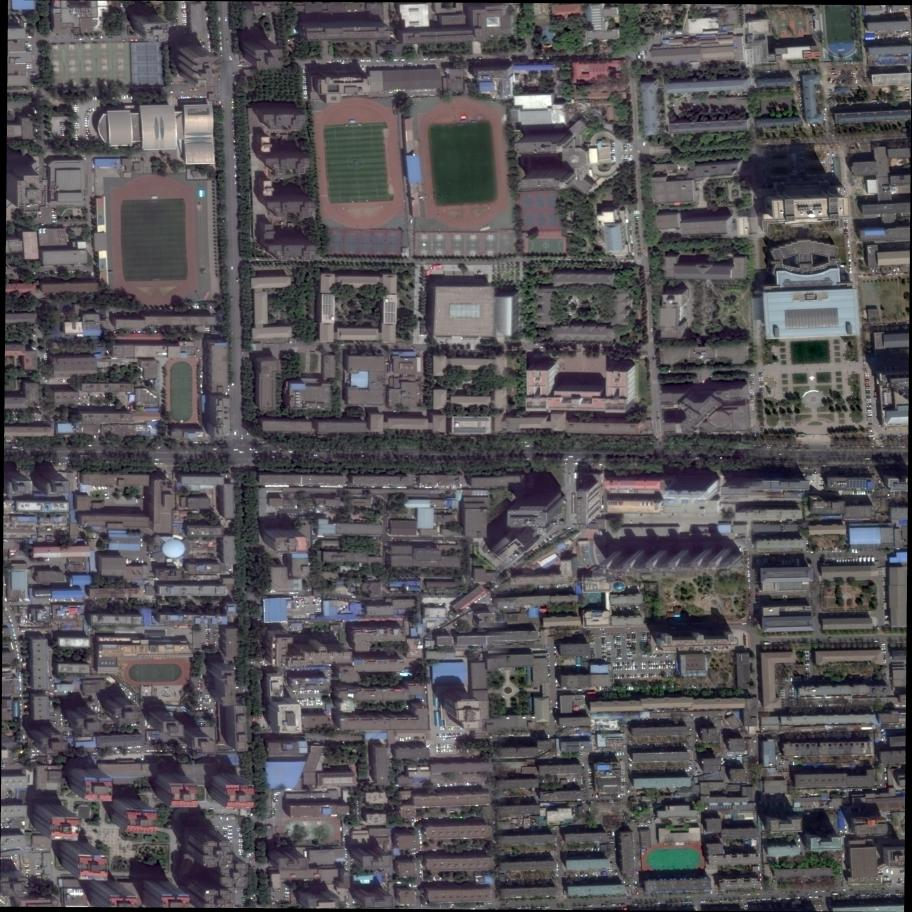small-vehicle: (399, 672, 409, 677), (576, 657, 581, 666), (103, 491, 110, 497), (543, 538, 549, 544), (547, 536, 553, 542), (554, 529, 560, 535), (554, 872, 560, 878), (876, 422, 882, 428), (627, 756, 633, 762), (665, 653, 671, 659), (300, 597, 305, 604), (567, 298, 574, 303), (311, 453, 319, 457), (871, 557, 875, 565), (867, 557, 871, 565), (863, 557, 867, 565), (533, 546, 538, 552), (538, 543, 544, 548), (622, 879, 627, 885), (426, 743, 431, 749), (120, 94, 125, 100), (228, 55, 233, 61), (154, 461, 160, 466), (70, 597, 75, 603), (720, 760, 726, 765), (412, 850, 418, 855), (829, 78, 834, 84), (628, 225, 633, 231), (590, 799, 596, 804), (627, 762, 633, 767), (589, 633, 595, 638), (238, 450, 245, 454), (232, 448, 239, 452), (886, 818, 893, 822), (803, 650, 810, 654), (820, 463, 827, 467), (850, 72, 857, 76), (858, 558, 862, 565), (561, 462, 568, 466), (580, 800, 587, 804), (541, 541, 546, 546), (9, 605, 14, 610), (463, 781, 468, 786), (573, 872, 578, 877), (614, 871, 619, 876), (635, 891, 640, 896), (19, 658, 24, 663), (7, 614, 12, 619), (31, 346, 36, 351), (574, 534, 579, 539), (838, 79, 843, 84), (547, 672, 552, 677), (316, 607, 322, 611), (314, 602, 320, 606), (234, 172, 238, 178), (523, 457, 529, 461), (233, 138, 237, 144), (227, 828, 233, 832), (238, 843, 244, 847), (449, 903, 455, 907), (466, 781, 470, 787), (587, 903, 593, 907), (411, 847, 417, 851), (140, 38, 146, 42), (121, 38, 127, 42), (218, 22, 222, 28), (135, 498, 139, 504), (104, 496, 110, 500), (86, 110, 92, 114), (31, 139, 37, 143), (608, 799, 614, 803), (808, 792, 814, 796), (877, 870, 883, 874), (792, 444, 798, 448), (831, 151, 835, 157), (819, 160, 825, 164), (610, 148, 616, 152), (637, 54, 641, 60), (622, 154, 628, 158), (630, 790, 636, 794), (580, 787, 586, 791), (287, 450, 294, 453), (523, 444, 530, 447), (618, 799, 625, 802), (610, 903, 617, 906), (871, 788, 878, 791), (894, 893, 901, 896), (864, 457, 871, 460), (766, 446, 773, 449), (897, 272, 904, 275), (567, 455, 574, 458), (619, 777, 626, 780), (234, 180, 238, 185), (230, 265, 234, 270), (246, 431, 250, 436), (240, 435, 244, 440), (233, 154, 237, 159), (231, 104, 235, 109), (232, 127, 236, 132), (225, 817, 229, 822), (270, 888, 274, 893), (419, 860, 423, 865), (419, 869, 423, 874), (410, 817, 414, 822), (607, 831, 611, 836), (590, 847, 594, 852), (580, 872, 584, 877), (635, 870, 639, 875), (454, 782, 458, 787), (547, 734, 551, 739), (419, 840, 423, 845), (466, 748, 470, 753), (595, 793, 599, 798), (219, 46, 223, 51), (218, 30, 222, 35), (30, 84, 34, 89), (130, 95, 134, 100), (134, 38, 139, 42), (224, 17, 228, 22), (24, 614, 28, 619), (200, 390, 204, 395), (199, 383, 203, 388), (74, 597, 78, 602), (213, 632, 217, 637), (12, 632, 16, 637), (17, 626, 21, 631), (11, 623, 15, 628), (218, 101, 222, 106), (591, 794, 595, 799), (828, 805, 833, 809), (828, 94, 833, 98), (838, 70, 842, 75), (577, 532, 582, 536), (749, 403, 754, 407), (748, 399, 753, 403), (761, 428, 765, 433), (858, 274, 863, 278), (847, 243, 851, 248), (629, 234, 633, 239), (630, 239, 634, 244), (631, 251, 635, 256), (575, 298, 579, 303), (567, 301, 572, 305), (642, 141, 646, 146), (581, 762, 585, 767), (582, 776, 586, 781), (588, 787, 593, 791), (619, 790, 624, 794), (606, 686, 610, 691), (596, 686, 600, 691), (578, 688, 583, 692), (554, 661, 558, 666), (628, 740, 632, 745), (656, 654, 660, 659), (653, 654, 658, 658), (649, 654, 654, 658), (619, 606, 623, 611), (271, 450, 277, 453), (249, 448, 255, 451), (305, 612, 311, 615), (315, 610, 321, 613), (231, 98, 234, 104), (233, 132, 236, 138), (284, 891, 290, 894), (24, 863, 30, 866), (222, 831, 228, 834), (239, 851, 245, 854), (239, 853, 245, 856), (238, 846, 244, 849), (238, 840, 244, 843), (516, 896, 522, 899), (544, 906, 550, 909), (608, 841, 614, 844), (608, 853, 614, 856), (620, 903, 626, 906), (181, 2, 187, 5), (181, 6, 187, 9), (181, 9, 187, 12), (182, 23, 188, 26), (226, 38, 229, 44), (73, 106, 79, 109), (27, 36, 33, 39), (72, 104, 78, 107), (212, 447, 218, 450), (200, 375, 203, 381), (150, 559, 156, 562), (205, 628, 211, 631), (205, 630, 211, 633), (205, 635, 211, 638), (74, 110, 80, 113), (73, 138, 79, 141), (72, 132, 78, 135), (74, 124, 80, 127), (85, 130, 91, 133), (84, 122, 90, 125), (84, 117, 90, 120), (52, 220, 58, 223), (92, 168, 95, 174), (59, 126, 65, 129), (884, 877, 890, 880), (700, 900, 706, 903), (775, 897, 781, 900), (794, 896, 800, 899), (820, 890, 826, 893), (804, 657, 810, 660), (779, 691, 785, 694), (789, 687, 795, 690), (789, 694, 795, 697), (813, 890, 819, 893), (737, 754, 743, 757), (819, 480, 825, 483), (852, 558, 855, 564), (841, 558, 844, 564), (839, 558, 842, 564), (836, 558, 839, 564), (804, 670, 810, 673), (860, 894, 866, 897), (422, 849, 428, 852), (850, 74, 856, 77), (847, 558, 850, 564), (855, 558, 858, 564), (655, 902, 661, 905), (694, 456, 700, 459), (773, 457, 779, 460), (805, 68, 811, 71), (767, 444, 773, 447), (866, 405, 872, 408), (867, 411, 873, 414), (869, 445, 875, 448), (879, 445, 885, 448), (597, 463, 603, 466), (572, 462, 578, 465), (573, 458, 579, 461), (562, 458, 568, 461), (748, 391, 754, 394), (747, 379, 753, 382), (758, 372, 764, 375), (587, 776, 593, 779), (619, 793, 625, 796), (619, 796, 625, 799), (589, 782, 595, 785), (588, 767, 594, 770), (642, 652, 648, 655), (647, 640, 653, 643), (589, 642, 595, 645), (312, 598, 316, 602), (234, 149, 238, 153), (555, 701, 559, 705), (219, 816, 223, 820), (246, 853, 250, 857), (555, 705, 559, 709), (419, 874, 423, 878), (471, 782, 475, 786), (474, 782, 478, 786), (449, 783, 453, 787), (441, 734, 445, 738), (437, 783, 441, 787), (419, 845, 423, 849), (457, 733, 461, 737), (207, 40, 211, 44), (207, 34, 211, 38), (34, 110, 38, 114), (16, 656, 20, 660), (15, 644, 19, 648), (9, 619, 13, 623), (94, 107, 98, 111), (175, 96, 179, 100), (883, 768, 887, 772), (899, 879, 903, 883), (831, 165, 835, 169), (826, 151, 830, 155), (848, 258, 852, 262), (848, 261, 852, 265), (611, 140, 615, 144), (588, 807, 592, 811), (625, 686, 629, 690), (587, 751, 591, 755), (747, 578, 751, 582), (603, 658, 607, 662), (234, 164, 237, 169), (234, 430, 237, 435), (235, 159, 238, 164), (554, 653, 557, 658), (562, 528, 567, 531), (10, 855, 13, 860), (15, 854, 18, 859), (24, 865, 29, 868), (35, 864, 40, 867), (209, 807, 214, 810), (228, 825, 233, 828), (133, 696, 136, 701), (285, 887, 290, 890), (306, 697, 309, 702), (237, 827, 242, 830), (249, 852, 252, 857), (521, 907, 526, 910), (526, 906, 531, 909), (536, 906, 541, 909), (500, 904, 505, 907), (487, 902, 492, 905), (424, 817, 429, 820), (516, 907, 521, 910), (582, 904, 587, 907), (612, 831, 615, 836), (608, 869, 613, 872), (447, 744, 450, 749), (436, 744, 439, 749), (409, 736, 412, 741), (399, 737, 402, 742), (460, 732, 463, 737), (219, 40, 222, 45), (182, 13, 187, 16), (95, 37, 100, 40), (90, 37, 95, 40), (95, 96, 98, 101), (126, 94, 129, 99), (129, 39, 134, 42), (218, 16, 221, 21), (79, 37, 84, 40), (26, 64, 31, 67), (74, 108, 79, 111), (147, 554, 152, 557), (141, 559, 144, 564), (129, 559, 132, 564), (126, 559, 129, 564), (140, 537, 143, 542), (154, 458, 159, 461), (160, 462, 165, 465), (205, 327, 210, 330), (143, 588, 146, 593), (43, 356, 48, 359), (16, 648, 19, 653), (60, 132, 65, 135), (85, 134, 90, 137), (73, 136, 78, 139), (85, 124, 90, 127), (85, 119, 90, 122), (85, 115, 90, 118), (85, 112, 90, 115), (59, 128, 64, 131), (52, 214, 57, 217), (92, 163, 95, 168), (884, 783, 887, 788), (885, 893, 890, 896), (719, 900, 724, 903), (739, 899, 744, 902), (761, 898, 766, 901), (786, 897, 791, 900), (859, 490, 862, 495), (806, 540, 809, 545), (881, 651, 886, 654), (881, 643, 886, 646), (721, 757, 724, 762), (632, 661, 635, 666), (632, 674, 635, 679), (614, 674, 617, 679), (619, 662, 622, 667), (844, 559, 847, 564), (804, 654, 809, 657), (684, 901, 689, 904), (865, 388, 870, 391), (865, 385, 870, 388), (865, 381, 870, 384), (864, 372, 869, 375), (798, 445, 803, 448), (887, 273, 892, 276), (797, 69, 802, 72), (893, 273, 898, 276), (843, 219, 848, 222), (847, 239, 850, 244), (600, 800, 605, 803), (611, 144, 616, 147), (611, 155, 616, 158), (611, 159, 616, 162), (760, 385, 765, 388), (642, 50, 645, 55), (627, 143, 632, 146), (622, 145, 627, 148), (622, 157, 627, 160), (747, 568, 750, 573), (627, 651, 632, 654), (631, 631, 636, 634), (608, 658, 611, 663), (642, 640, 647, 643), (641, 632, 646, 635), (631, 636, 636, 639), (742, 622, 747, 625), (755, 604, 760, 607), (755, 597, 760, 600), (606, 647, 611, 650), (616, 645, 621, 648), (616, 637, 621, 640), (35, 873, 42, 875), (726, 754, 733, 756), (748, 374, 755, 376), (587, 770, 594, 772), (104, 486, 107, 490), (314, 690, 317, 694), (554, 649, 557, 653), (521, 441, 527, 443), (284, 895, 290, 897), (25, 869, 31, 871), (228, 836, 232, 839), (228, 833, 232, 836), (19, 678, 22, 682), (252, 866, 255, 870), (306, 702, 309, 706), (311, 702, 314, 706), (315, 698, 318, 702), (238, 849, 244, 851), (238, 835, 244, 837), (249, 859, 252, 863), (555, 679, 558, 683), (414, 818, 417, 822), (597, 847, 600, 851), (578, 905, 582, 908), (445, 783, 448, 787), (436, 749, 439, 753), (440, 744, 443, 748), (439, 734, 442, 738), (436, 734, 439, 738), (405, 737, 408, 741), (402, 738, 405, 742), (460, 726, 463, 730), (455, 727, 458, 731), (451, 727, 454, 731), (448, 727, 451, 731), (449, 744, 452, 748), (418, 832, 421, 836), (419, 836, 422, 840), (453, 733, 456, 737), (460, 749, 463, 753), (457, 749, 460, 753), (19, 674, 22, 678), (208, 48, 211, 52), (208, 44, 211, 48), (205, 16, 208, 20), (181, 4, 187, 6), (182, 15, 188, 17), (182, 17, 188, 19), (219, 35, 222, 39), (92, 97, 95, 101), (123, 95, 126, 99), (120, 4, 123, 8), (220, 53, 223, 57), (150, 557, 154, 560), (205, 329, 211, 331), (205, 642, 211, 644), (205, 644, 211, 646), (14, 640, 17, 644), (12, 628, 15, 632), (23, 619, 26, 623), (74, 134, 80, 136), (72, 130, 78, 132), (74, 122, 80, 124), (85, 128, 91, 130), (92, 108, 95, 112), (187, 95, 190, 99), (173, 96, 176, 100), (179, 91, 185, 93), (35, 128, 38, 132), (59, 124, 65, 126), (102, 486, 105, 490), (724, 900, 730, 902), (808, 896, 814, 898), (813, 896, 819, 898), (780, 762, 784, 765), (852, 491, 855, 495), (779, 696, 785, 698), (779, 694, 785, 696), (789, 690, 795, 692), (660, 661, 663, 665), (653, 661, 656, 665), (648, 661, 651, 665), (643, 666, 646, 670), (641, 666, 644, 670), (633, 666, 636, 670), (630, 666, 633, 670), (620, 667, 623, 671), (615, 667, 618, 671), (641, 662, 644, 666), (627, 662, 630, 666), (648, 665, 651, 669), (673, 660, 676, 664), (669, 673, 672, 677), (666, 673, 669, 677), (654, 673, 657, 677), (637, 674, 640, 678), (620, 675, 623, 679), (617, 675, 620, 679), (661, 665, 664, 669), (658, 665, 661, 669), (844, 895, 850, 897), (98, 486, 101, 490), (93, 486, 96, 490), (680, 901, 684, 904), (556, 864, 559, 868), (803, 468, 809, 470), (855, 80, 858, 84), (875, 274, 881, 276), (865, 374, 869, 377), (866, 399, 872, 401), (765, 71, 771, 73), (796, 79, 802, 81), (831, 160, 834, 164), (872, 269, 875, 273), (622, 662, 625, 666), (611, 146, 615, 149), (611, 142, 615, 145), (637, 686, 640, 690), (758, 383, 764, 385), (631, 686, 634, 690), (620, 780, 626, 782), (587, 772, 593, 774), (582, 766, 585, 770), (628, 686, 631, 690), (612, 687, 615, 691), (599, 686, 602, 690), (621, 784, 624, 788), (616, 752, 619, 756), (622, 752, 625, 756), (612, 663, 615, 667), (616, 657, 622, 659), (616, 652, 622, 654), (642, 655, 648, 657), (632, 642, 636, 645), (748, 582, 751, 586), (632, 585, 635, 589), (630, 585, 633, 589), (627, 585, 630, 589), (749, 615, 752, 619), (748, 591, 751, 595), (613, 635, 616, 639), (607, 645, 611, 648), (607, 641, 611, 644), (617, 649, 621, 652), (616, 643, 622, 645), (635, 606, 641, 608), (631, 607, 634, 611), (626, 607, 629, 611), (567, 527, 572, 529), (239, 838, 244, 840), (238, 833, 243, 835), (237, 830, 242, 832), (479, 905, 484, 907), (609, 856, 614, 858), (441, 748, 443, 753), (432, 849, 437, 851), (182, 19, 187, 21), (182, 21, 187, 23), (108, 37, 113, 39), (92, 42, 97, 44), (74, 38, 79, 40), (28, 44, 33, 46), (141, 542, 143, 547), (193, 441, 198, 443), (43, 359, 48, 361), (43, 355, 48, 357), (60, 134, 65, 136), (60, 130, 65, 132), (43, 353, 48, 355), (780, 760, 785, 762), (751, 899, 756, 901), (881, 648, 886, 650), (880, 646, 885, 648), (780, 689, 785, 691), (625, 666, 627, 671), (805, 673, 810, 675), (804, 664, 809, 666), (865, 379, 870, 381), (866, 401, 871, 403), (867, 414, 872, 416), (782, 445, 787, 447), (796, 77, 801, 79), (749, 383, 754, 385), (759, 388, 764, 390), (759, 379, 764, 381), (758, 377, 763, 379), (629, 149, 634, 151), (624, 149, 629, 151), (588, 779, 593, 781), (584, 791, 586, 796), (620, 772, 625, 774), (628, 657, 633, 659), (627, 645, 632, 647), (626, 639, 631, 641), (626, 637, 631, 639), (601, 652, 606, 654), (617, 654, 622, 656), (601, 650, 606, 652), (601, 648, 606, 650), (601, 646, 606, 648), (601, 642, 606, 644), (632, 645, 637, 647), (648, 638, 653, 640), (641, 636, 646, 638), (631, 639, 636, 641), (632, 641, 637, 643), (601, 644, 606, 646), (601, 635, 606, 637), (586, 628, 591, 630), (600, 628, 605, 630), (625, 627, 630, 629), (755, 601, 760, 603), (755, 594, 760, 596), (755, 592, 760, 594), (755, 590, 760, 592), (601, 632, 606, 634), (601, 638, 606, 640), (616, 641, 621, 643), (616, 639, 621, 641), (616, 635, 621, 637), (320, 702, 323, 705), (278, 889, 281, 892), (635, 881, 638, 884), (446, 749, 449, 752), (443, 749, 446, 752), (48, 598, 51, 601), (178, 96, 181, 99), (170, 82, 173, 85), (790, 678, 793, 681), (651, 666, 654, 669), (847, 250, 850, 253), (849, 266, 852, 269), (615, 663, 618, 666), (583, 781, 586, 784), (619, 752, 622, 755), (748, 587, 751, 590), (302, 698, 304, 702), (304, 698, 306, 702), (309, 702, 311, 706), (311, 698, 313, 702), (412, 822, 414, 826), (449, 734, 451, 738), (445, 734, 447, 738), (439, 749, 441, 753), (451, 749, 453, 753), (449, 748, 451, 752), (183, 95, 185, 99), (170, 91, 174, 93), (885, 776, 887, 780), (820, 483, 824, 485), (857, 491, 859, 495), (651, 661, 653, 665), (628, 666, 630, 670), (618, 667, 620, 671), (613, 667, 615, 671), (625, 662, 627, 666), (656, 661, 658, 665), (647, 674, 649, 678), (644, 674, 646, 678), (630, 675, 632, 679), (671, 664, 673, 668), (858, 789, 862, 791), (848, 789, 852, 791), (865, 377, 869, 379), (611, 152, 615, 154), (748, 573, 750, 577), (604, 687, 606, 691), (602, 687, 604, 691), (623, 744, 625, 748), (627, 643, 631, 645), (627, 641, 631, 643), (626, 635, 630, 637), (607, 654, 611, 656), (606, 652, 610, 654), (633, 653, 637, 655), (647, 633, 651, 635), (647, 635, 651, 637), (601, 640, 605, 642), (637, 585, 639, 589), (591, 654, 595, 656), (590, 652, 594, 654), (590, 650, 594, 652), (590, 648, 594, 650), (440, 727, 442, 730), (646, 662, 648, 665), (644, 662, 646, 665), (669, 665, 671, 668), (666, 665, 668, 668), (850, 270, 852, 273), (52, 217, 57, 218), (627, 654, 632, 655), (641, 639, 646, 640), (641, 635, 646, 636), (591, 657, 595, 658)
storage-tank: (160, 537, 188, 561)
